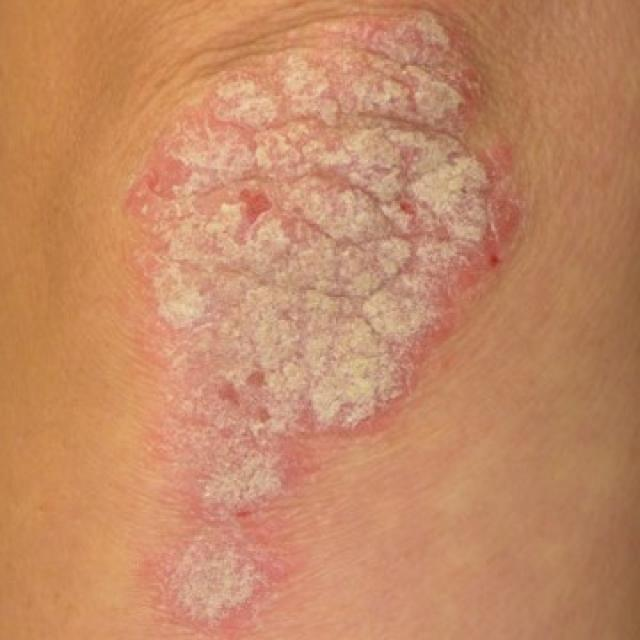Psoriasis: (119, 9, 528, 428), (142, 430, 294, 633)
